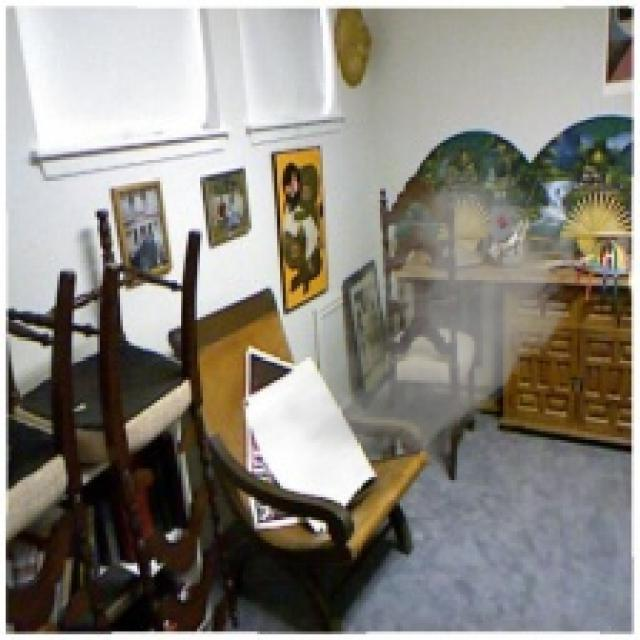Smoke: (228, 145, 592, 500)
